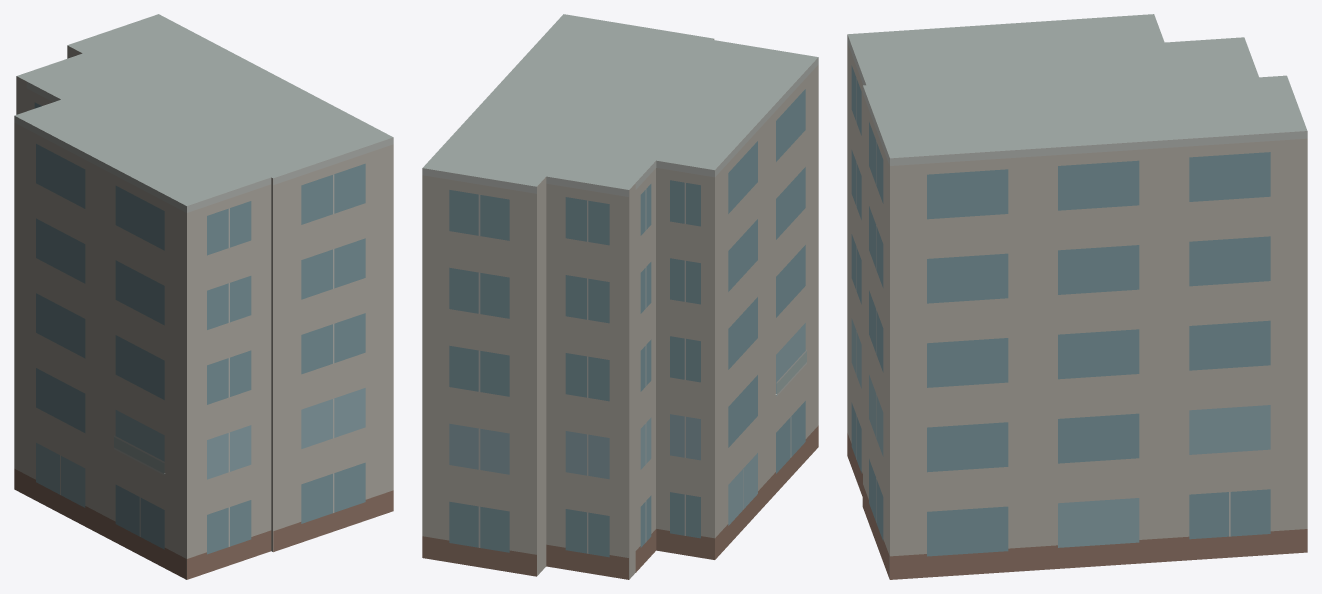
Rendered from survey-upis-32543055.glb.
3 renders of one model, left to right at view 1: azimuth 30°, elevation 25°; view 2: azimuth 150°, elevation 25°; view 3: azimuth 270°, elevation 25°, orthographic. The views are drawn at different scales.
Visible parts, largest first — view 1: survey-upis-32543055.tmp; view 2: survey-upis-32543055.tmp; view 3: survey-upis-32543055.tmp.
Part boxes in pixels (x1,y1,x2,y2): survey-upis-32543055.tmp: (14, 14, 393, 579); survey-upis-32543055.tmp: (422, 14, 818, 579); survey-upis-32543055.tmp: (847, 14, 1307, 579).
Bounding box in the file's own units: 9.78 × 13.3 × 13.17.
